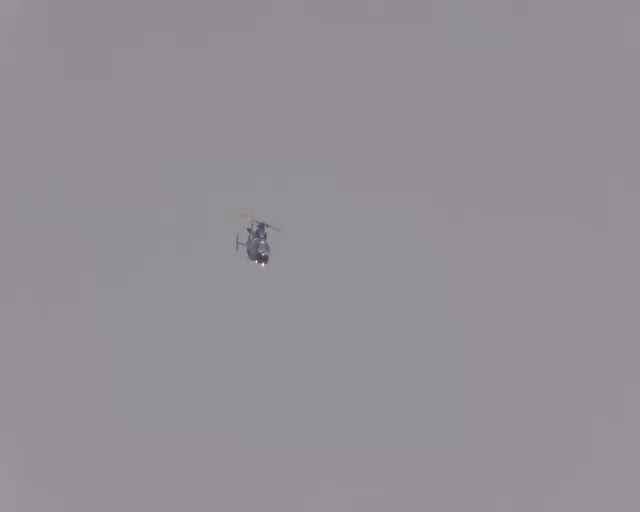HELICOPTER: (235, 213, 281, 266)
